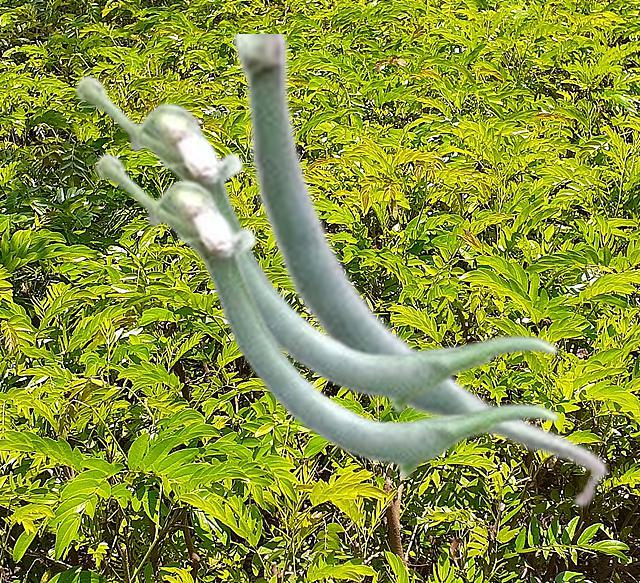french_bean: (232, 34, 608, 510), (74, 73, 558, 413), (94, 151, 559, 478)
